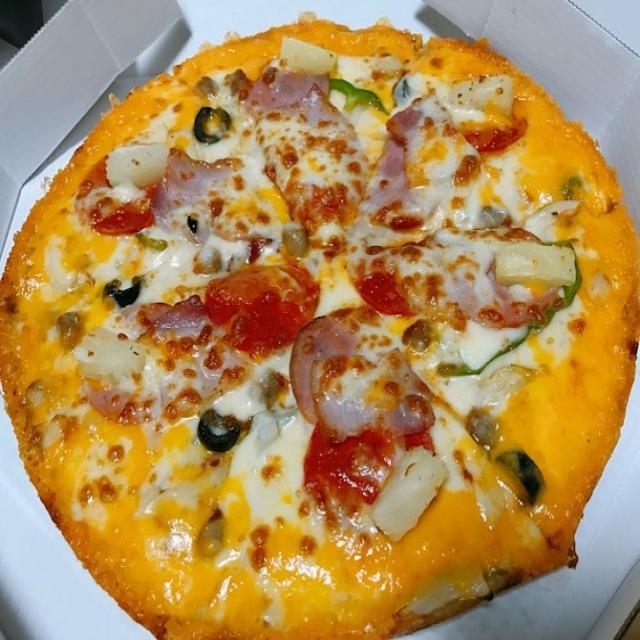black_olives: (493, 448, 541, 507), (191, 105, 236, 150), (201, 406, 242, 454), (104, 274, 148, 308)
peppers: (323, 72, 389, 126)
pizza: (0, 14, 640, 640)
